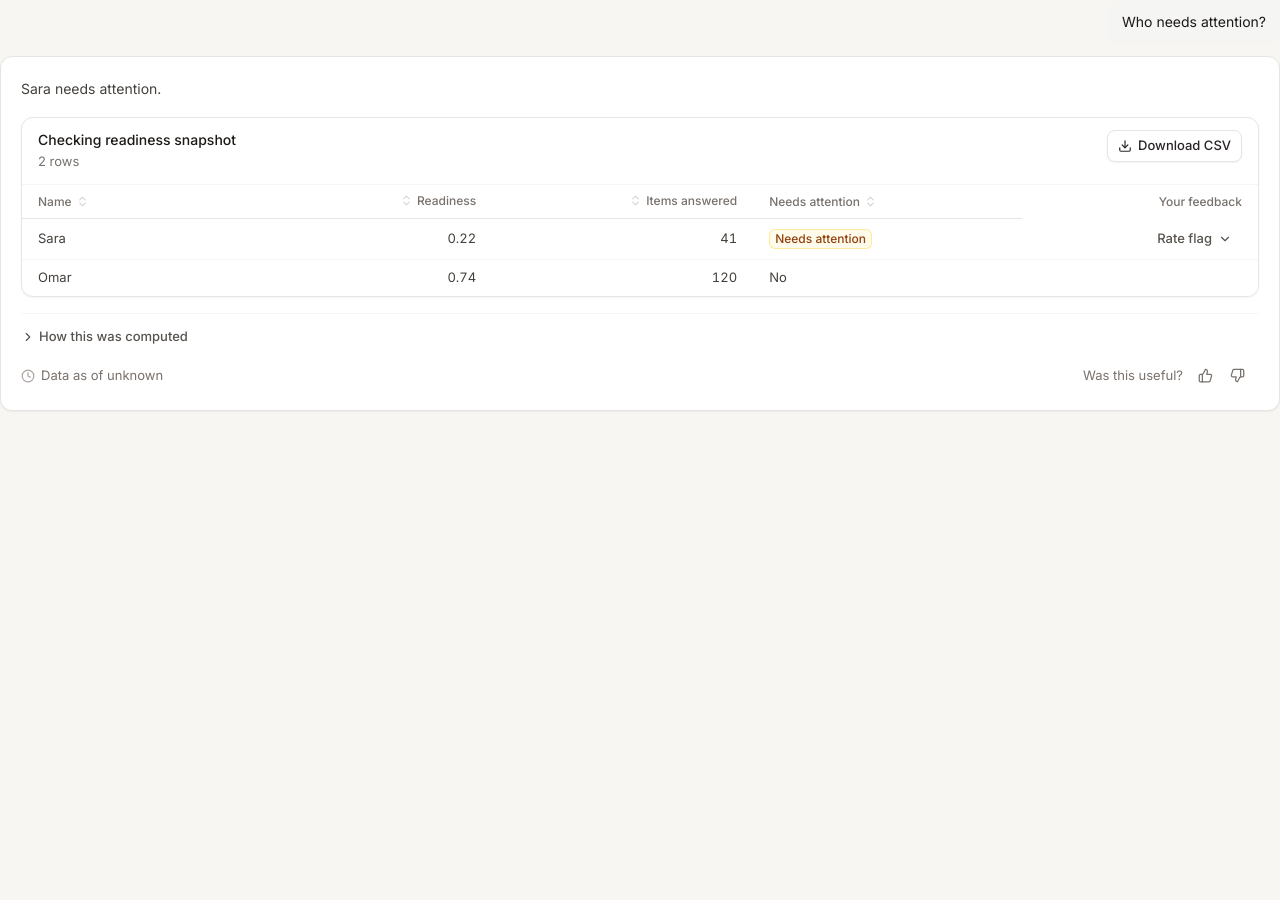
the answer › says "as of unknown", never "Live data", for a snapshot it cannot date
Click the button "How this was computed". click: click(104, 337)
box: [17, 327, 192, 346]
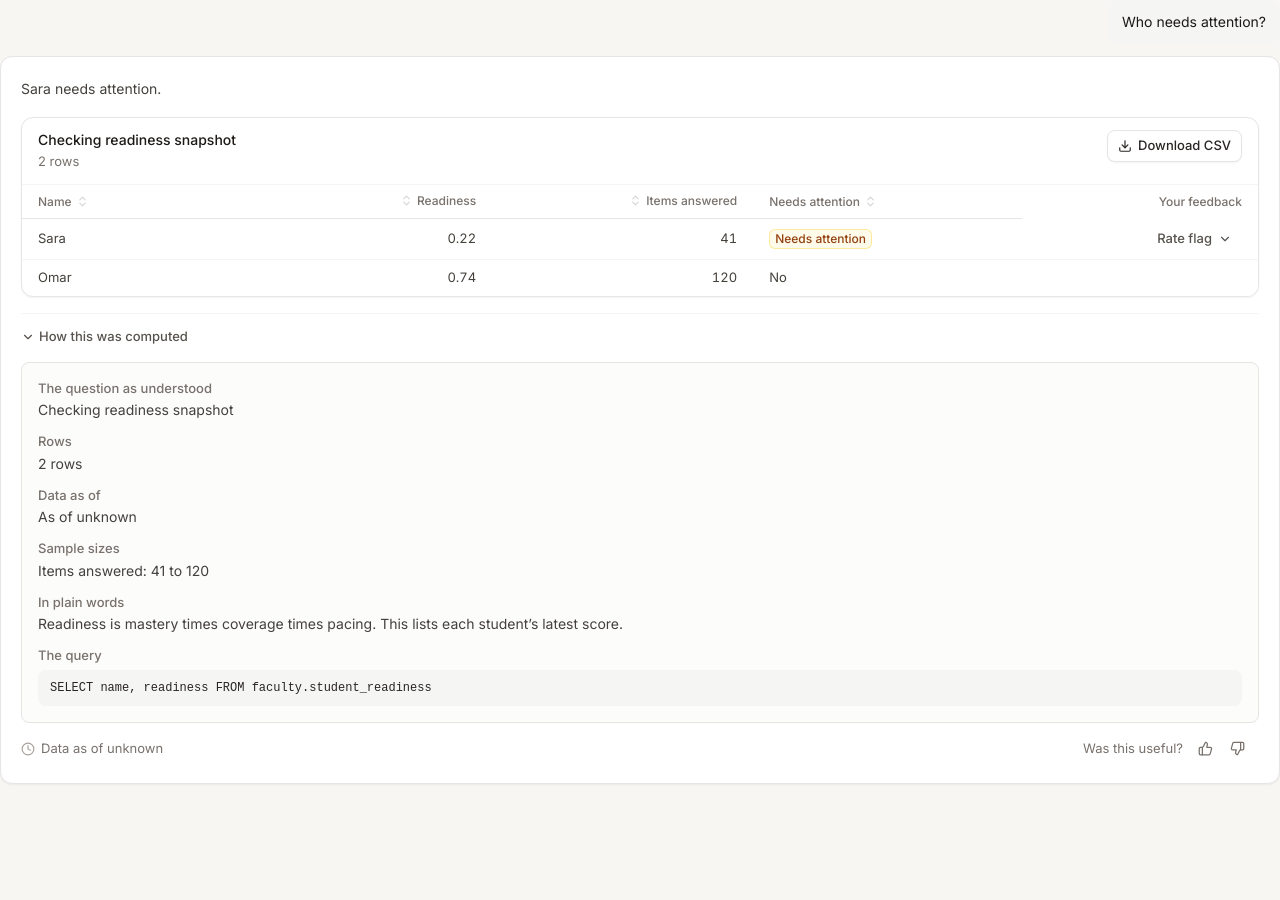
expect the text "Data as of unknown" is shown: met, box [21, 739, 163, 758]
expect the text "As of unknown" is shown: met, box [38, 508, 137, 525]
